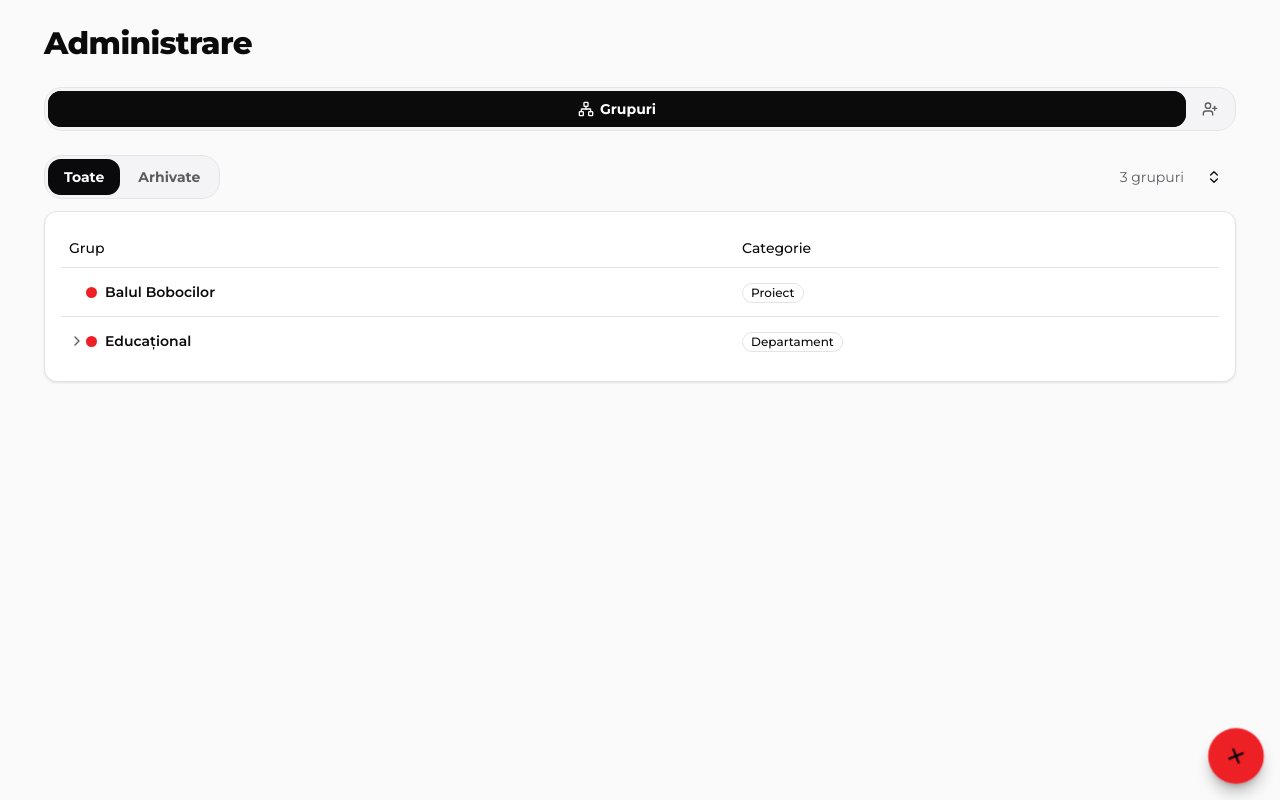
Test: names no direct Manager by default, and never offers the Moderator (#951)
Click the button named "Creează Grup" at (1236, 756), box [1207, 727, 1265, 785]
(page scrolled)
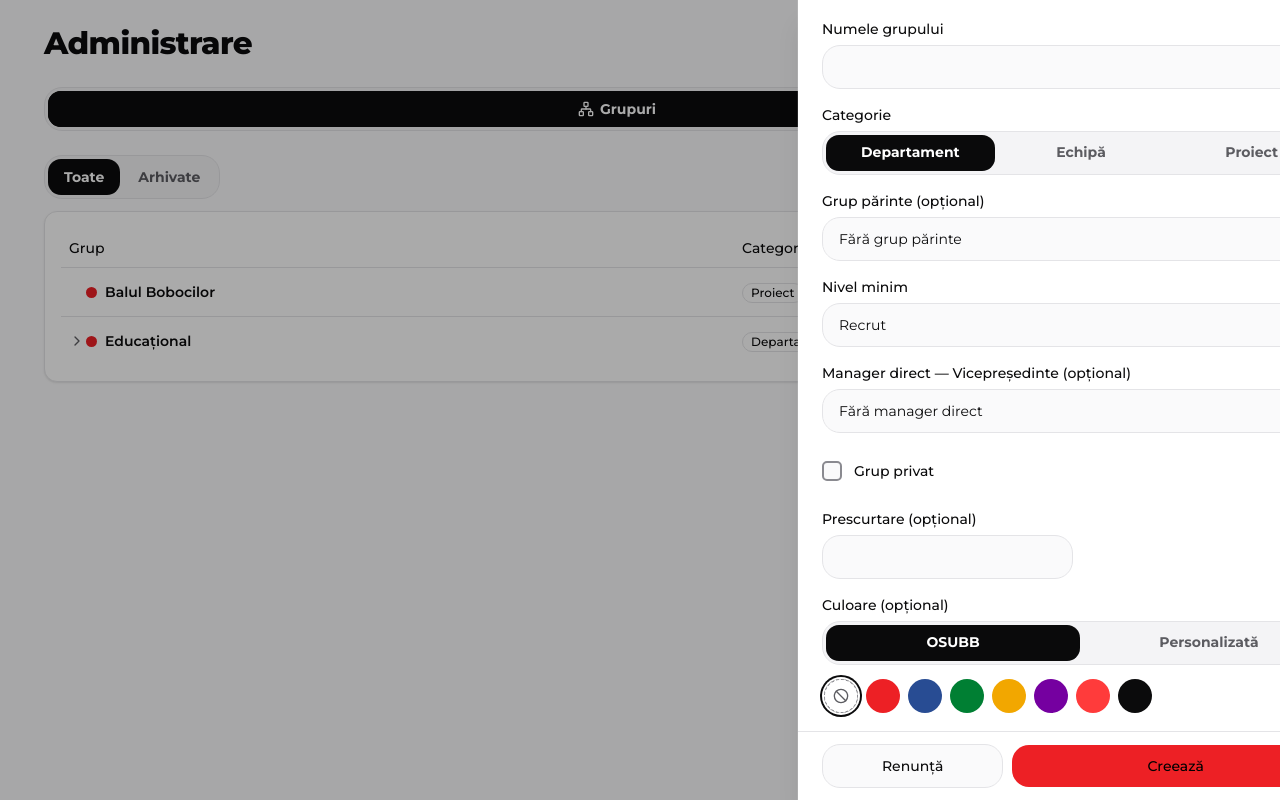
expect the dropdown named "Manager direct — Vicepreședinte (opțional)" reads "Fără manager direct": met
expect the button named "Despre managerul direct" is shown: met, box [1220, 351, 1264, 395]
Click the dropdown named "Manager direct — Vicepreședinte (opțional)" at (835, 411), box [746, 389, 1264, 433]
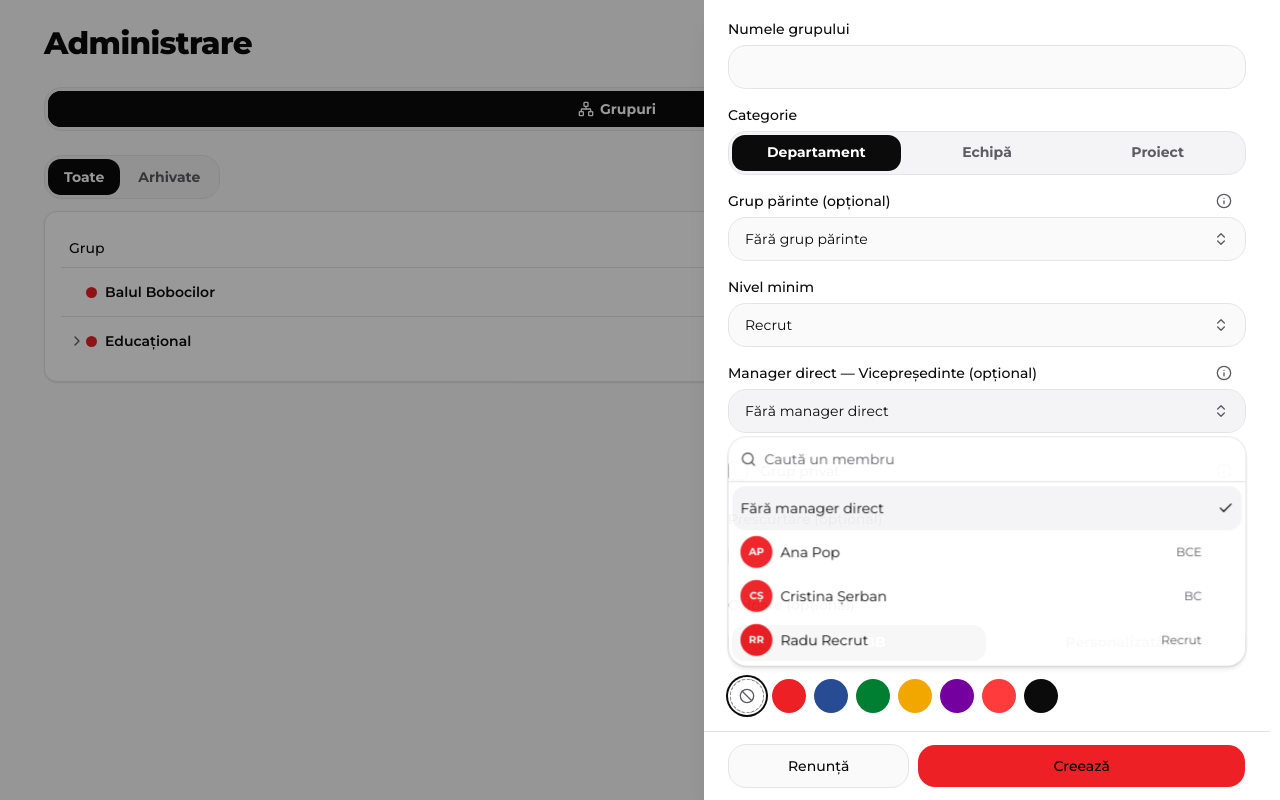
expect the options read "Fără manager direct", "APAna PopBCE", "CȘCristina ȘerbanBC", "RRRadu RecrutRecrut", in this order: met, box [732, 486, 1242, 530]; [732, 530, 1242, 574]; [732, 574, 1242, 618]; [732, 618, 1242, 662]
Press Escape
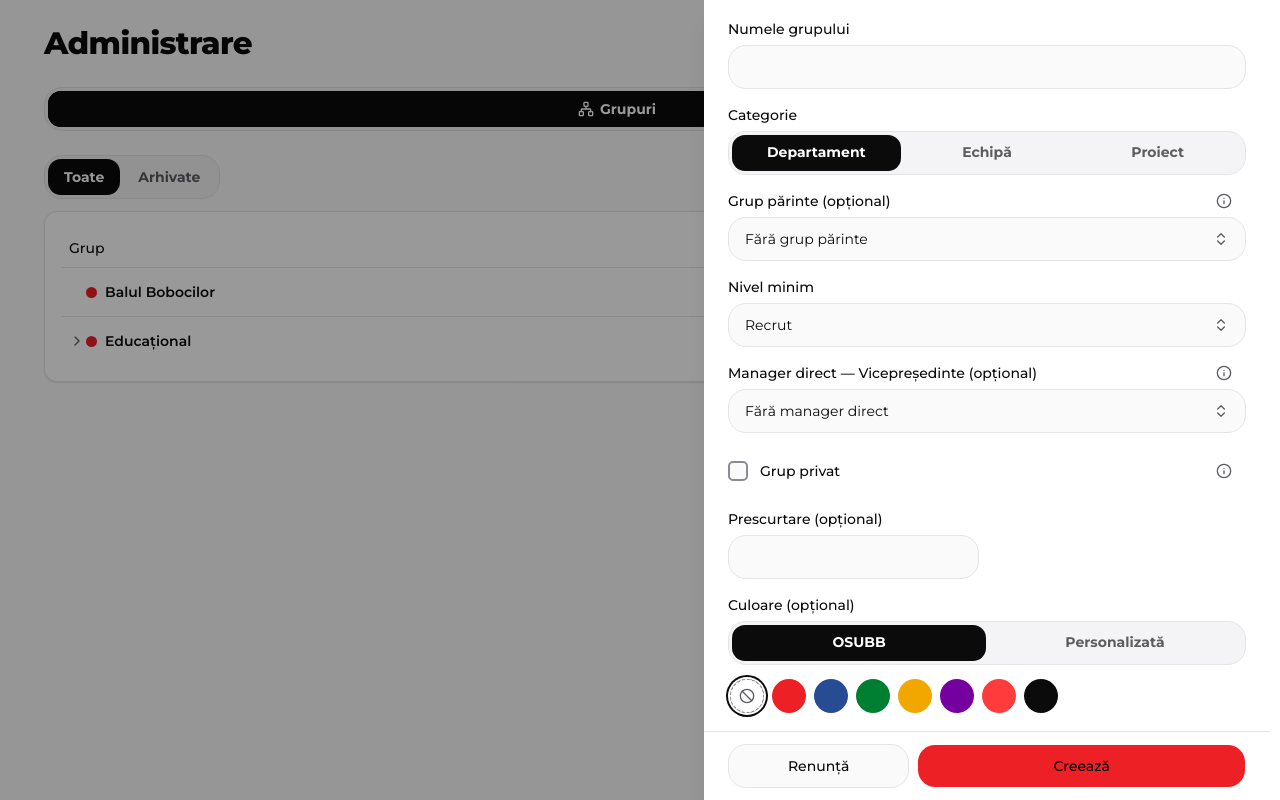
Type "Interne" into the field labelled "Numele grupului" at (987, 67), box [728, 45, 1246, 89]
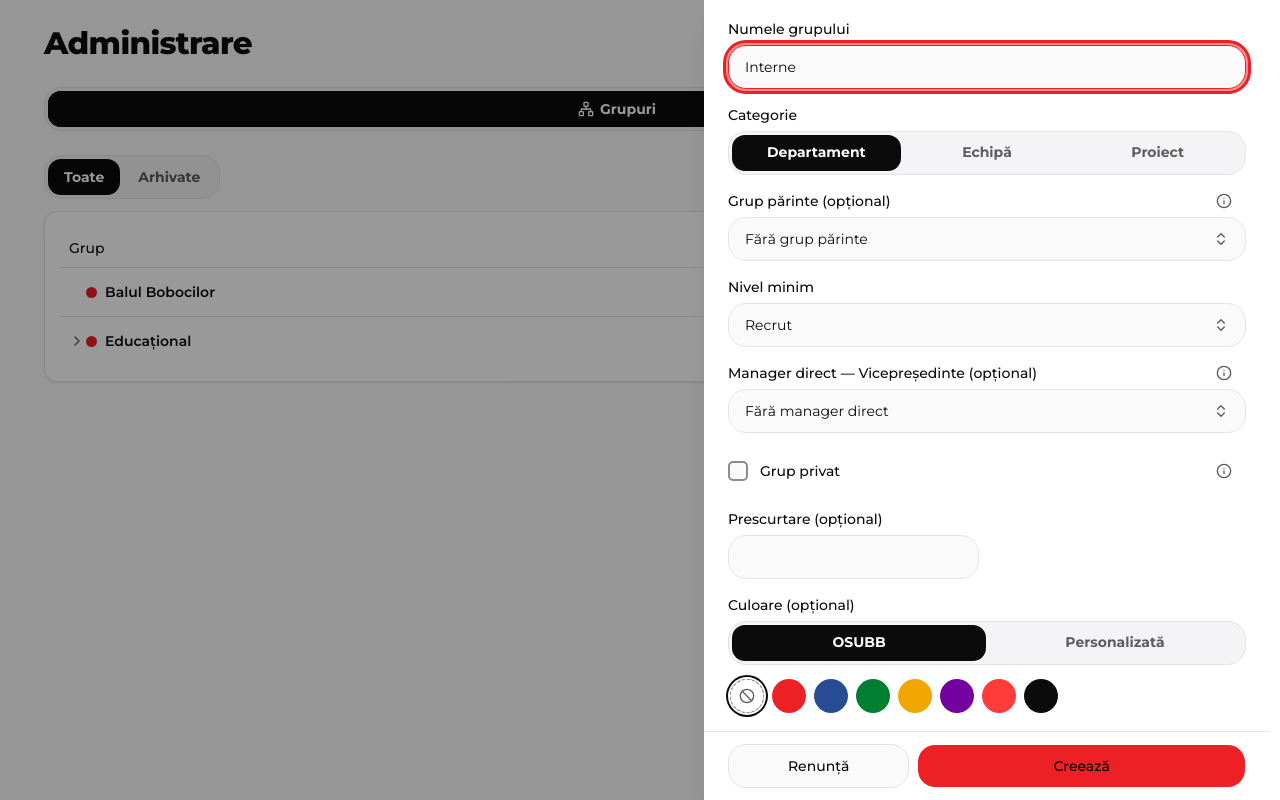
Click the button "Creează" at (1082, 766), box [917, 744, 1246, 788]
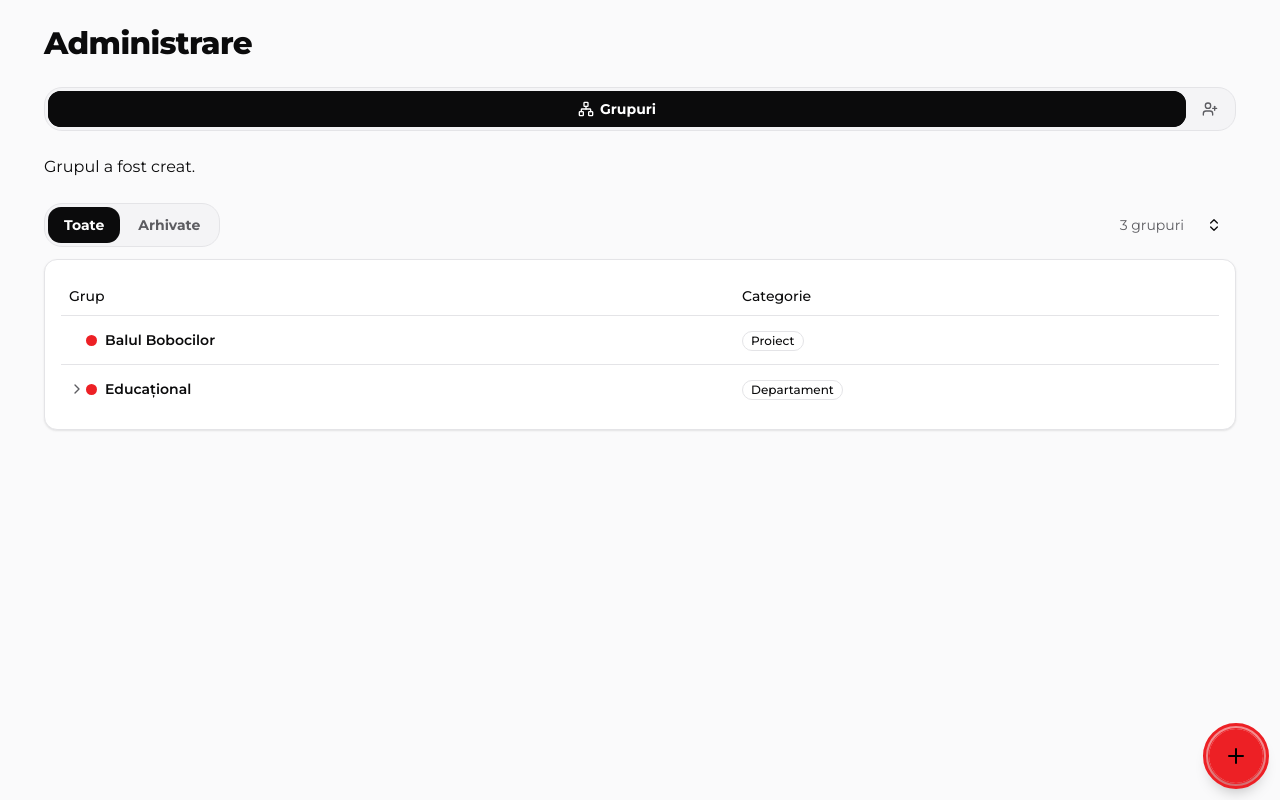
expect the text "Grupul a fost creat." is shown: met, box [44, 157, 195, 176]
